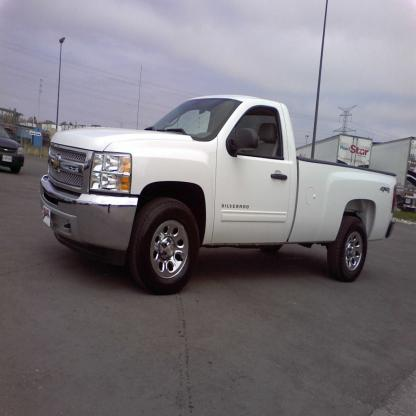Vehicle: (39, 94, 397, 297)
